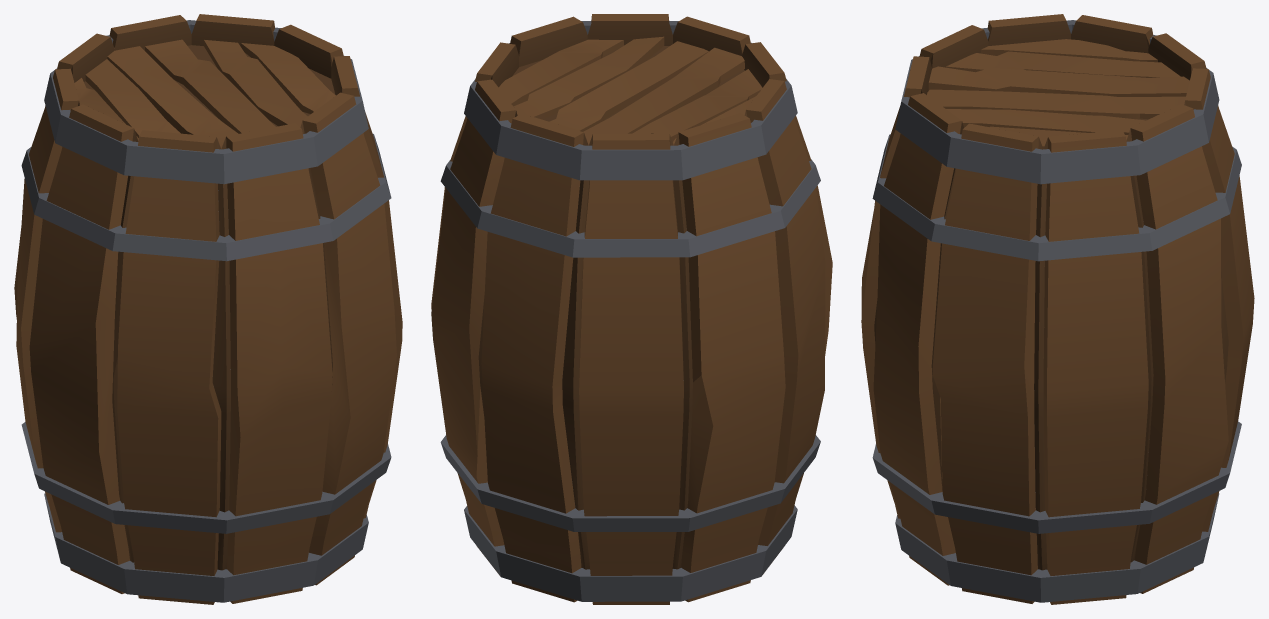
The model's file is Barrel.glb.
3 views of the same model, side by side, from view 1: azimuth 30°, elevation 25°; view 2: azimuth 150°, elevation 25°; view 3: azimuth 270°, elevation 25° (orthographic).
Parts seen in each view (by area): view 1: Barrel; view 2: Barrel; view 3: Barrel.
Boxes of the visible parts, bbox=[...] form: Barrel: bbox=[14, 14, 402, 604]; Barrel: bbox=[431, 14, 832, 604]; Barrel: bbox=[861, 14, 1254, 604].
Size of the model in its own units: 0.1582 by 0.2043 by 0.1568.
